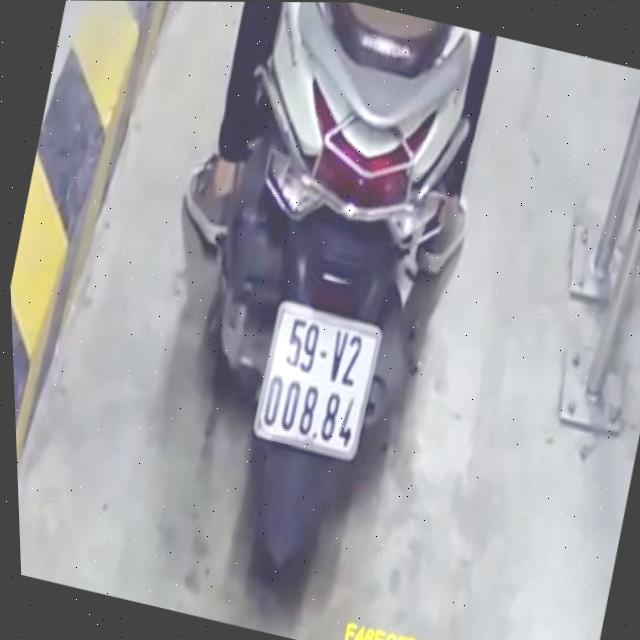motorcycle: (119, 1, 517, 627)
plate: (239, 292, 390, 466)
